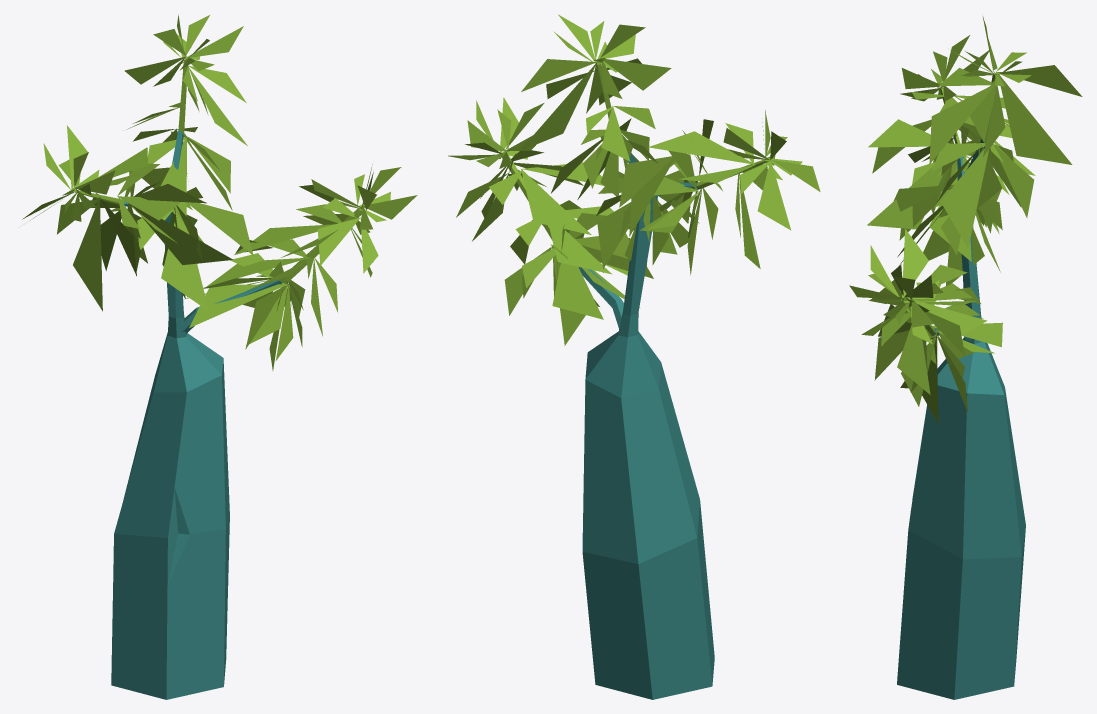
File: tree-baobab-sapling-b.fbx
3 renders of one model, left to right at view 1: azimuth 30°, elevation 25°; view 2: azimuth 150°, elevation 25°; view 3: azimuth 270°, elevation 25°, orthographic. The views are drawn at different scales.
Visible parts, largest first — view 1: tree-baobab-sapling-b; view 2: tree-baobab-sapling-b; view 3: tree-baobab-sapling-b.
Boxes of the visible parts, bbox=[...] form: tree-baobab-sapling-b: bbox=[22, 14, 417, 699]; tree-baobab-sapling-b: bbox=[448, 14, 820, 699]; tree-baobab-sapling-b: bbox=[849, 16, 1082, 699].
Bounding box in the file's own units: 0.9523 × 1.57 × 0.5071.
